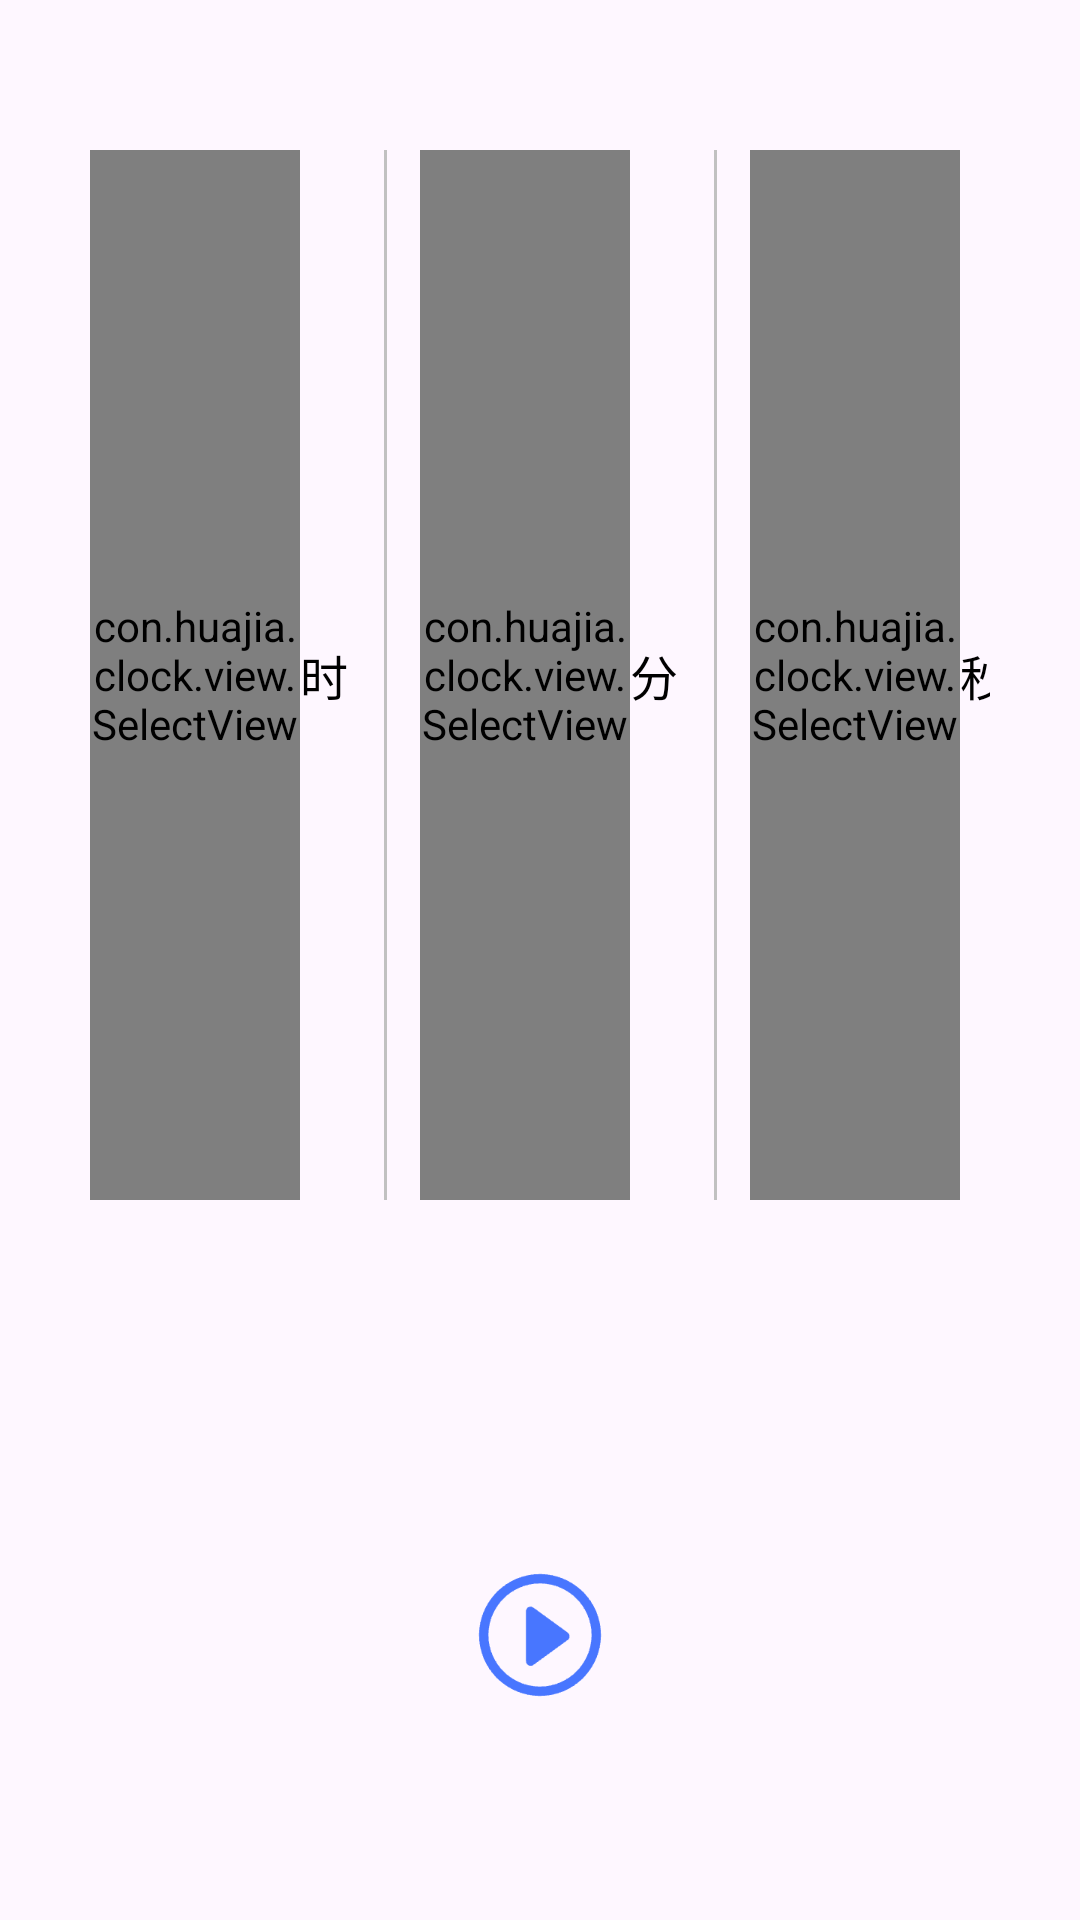

Where to tap for icons on this 1080 × 1920 app screen, as [x,y]:
start: [540,1635]
